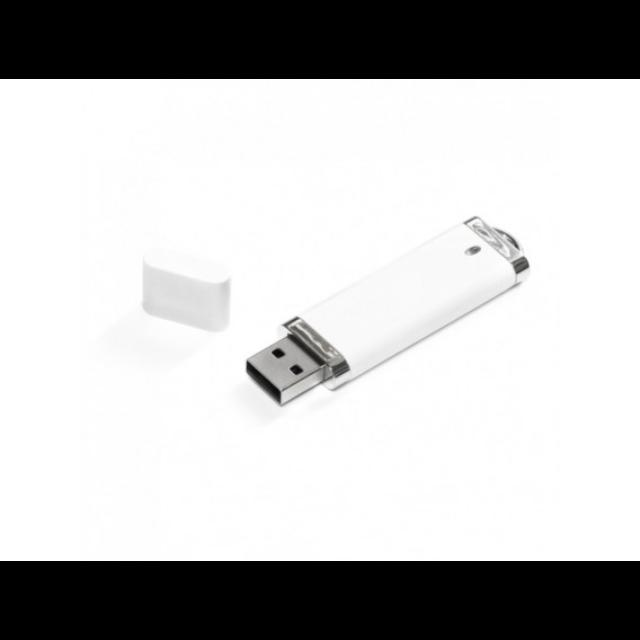USB-Flash-Drive: (244, 208, 530, 412)
